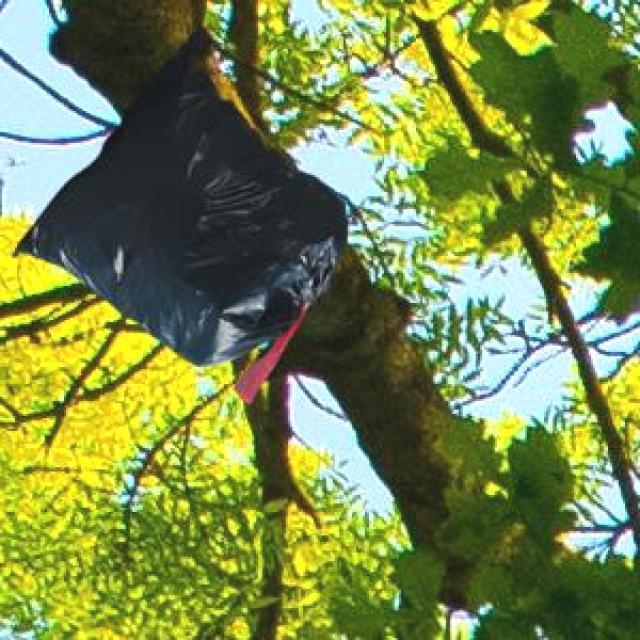Trashbag: (12, 24, 350, 373)
